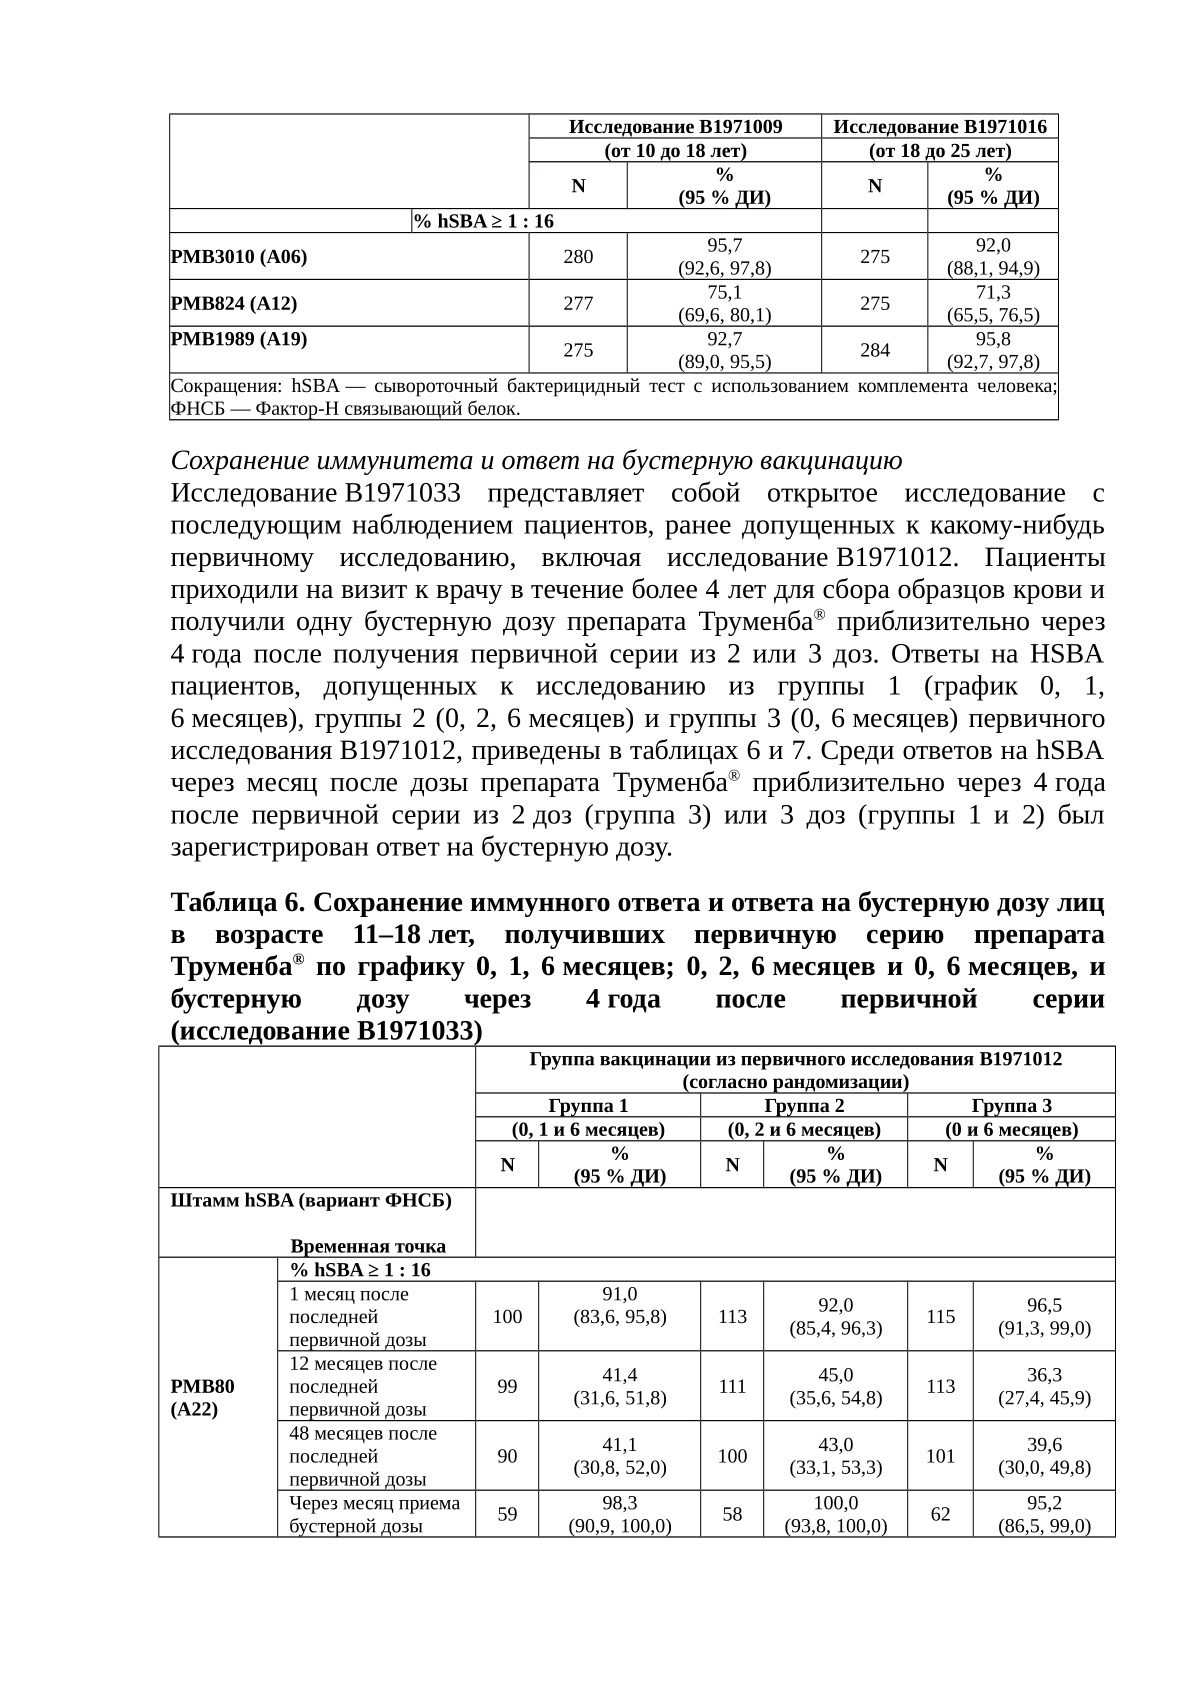merged_cells: (157, 1044, 1117, 1537), (167, 112, 1060, 421)
